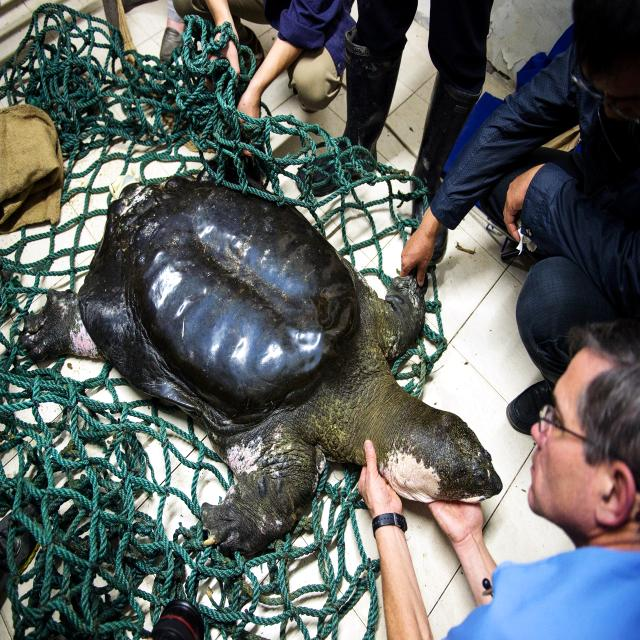Sea turtle: (20, 160, 507, 562)
